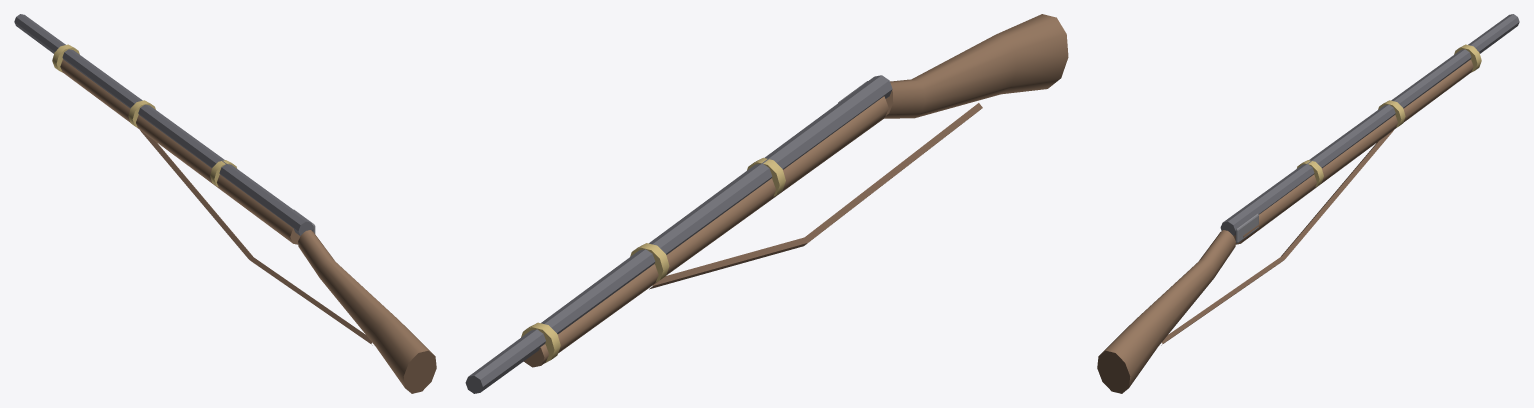
File: musket.glb
3 views of the same model, side by side, from view 1: azimuth 30°, elevation 25°; view 2: azimuth 150°, elevation 25°; view 3: azimuth 330°, elevation 25° (orthographic). The views are drawn at different scales.
Visible parts, largest first — view 1: musket; view 2: musket; view 3: musket.
Part boxes in pixels (x1,y1,x2,y2): musket: (14,14,436,393); musket: (465,14,1068,393); musket: (1097,14,1519,393).
Bounding box in the file's own units: 0.07 × 0.1821 × 1.48.
